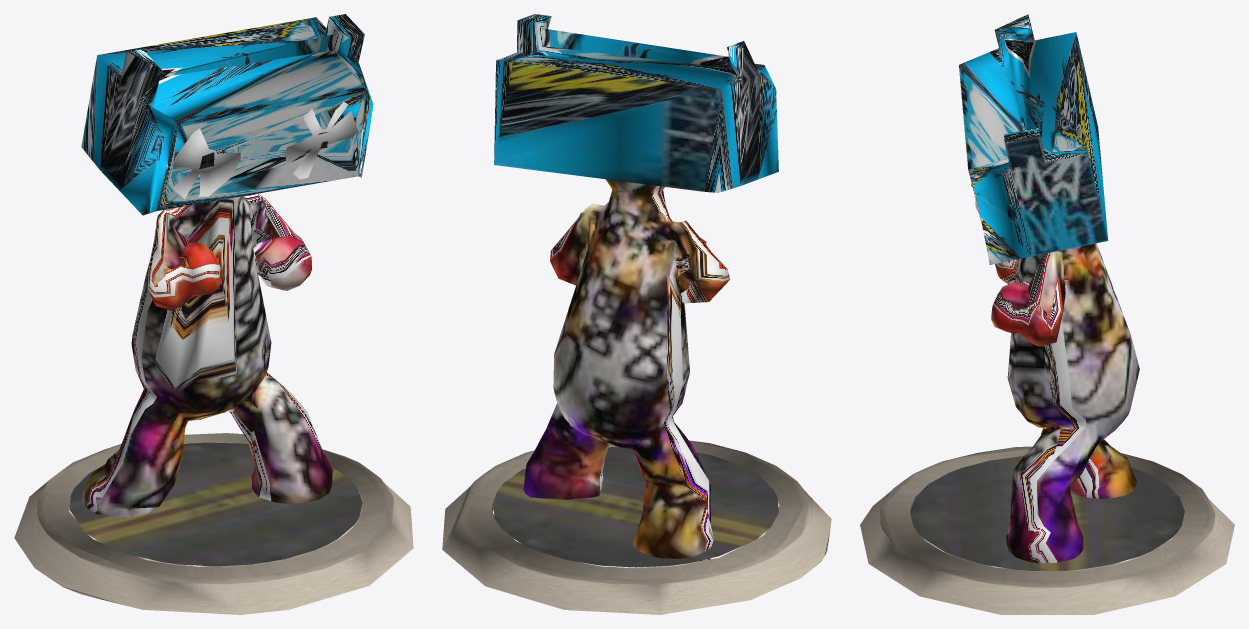
3 views of the same model, side by side, from view 1: azimuth 30°, elevation 25°; view 2: azimuth 150°, elevation 25°; view 3: azimuth 270°, elevation 25° (orthographic). The views are drawn at different scales.
Size of the model in its own units: 1.42 by 2.02 by 1.43.
6 materials, 4 textured.
